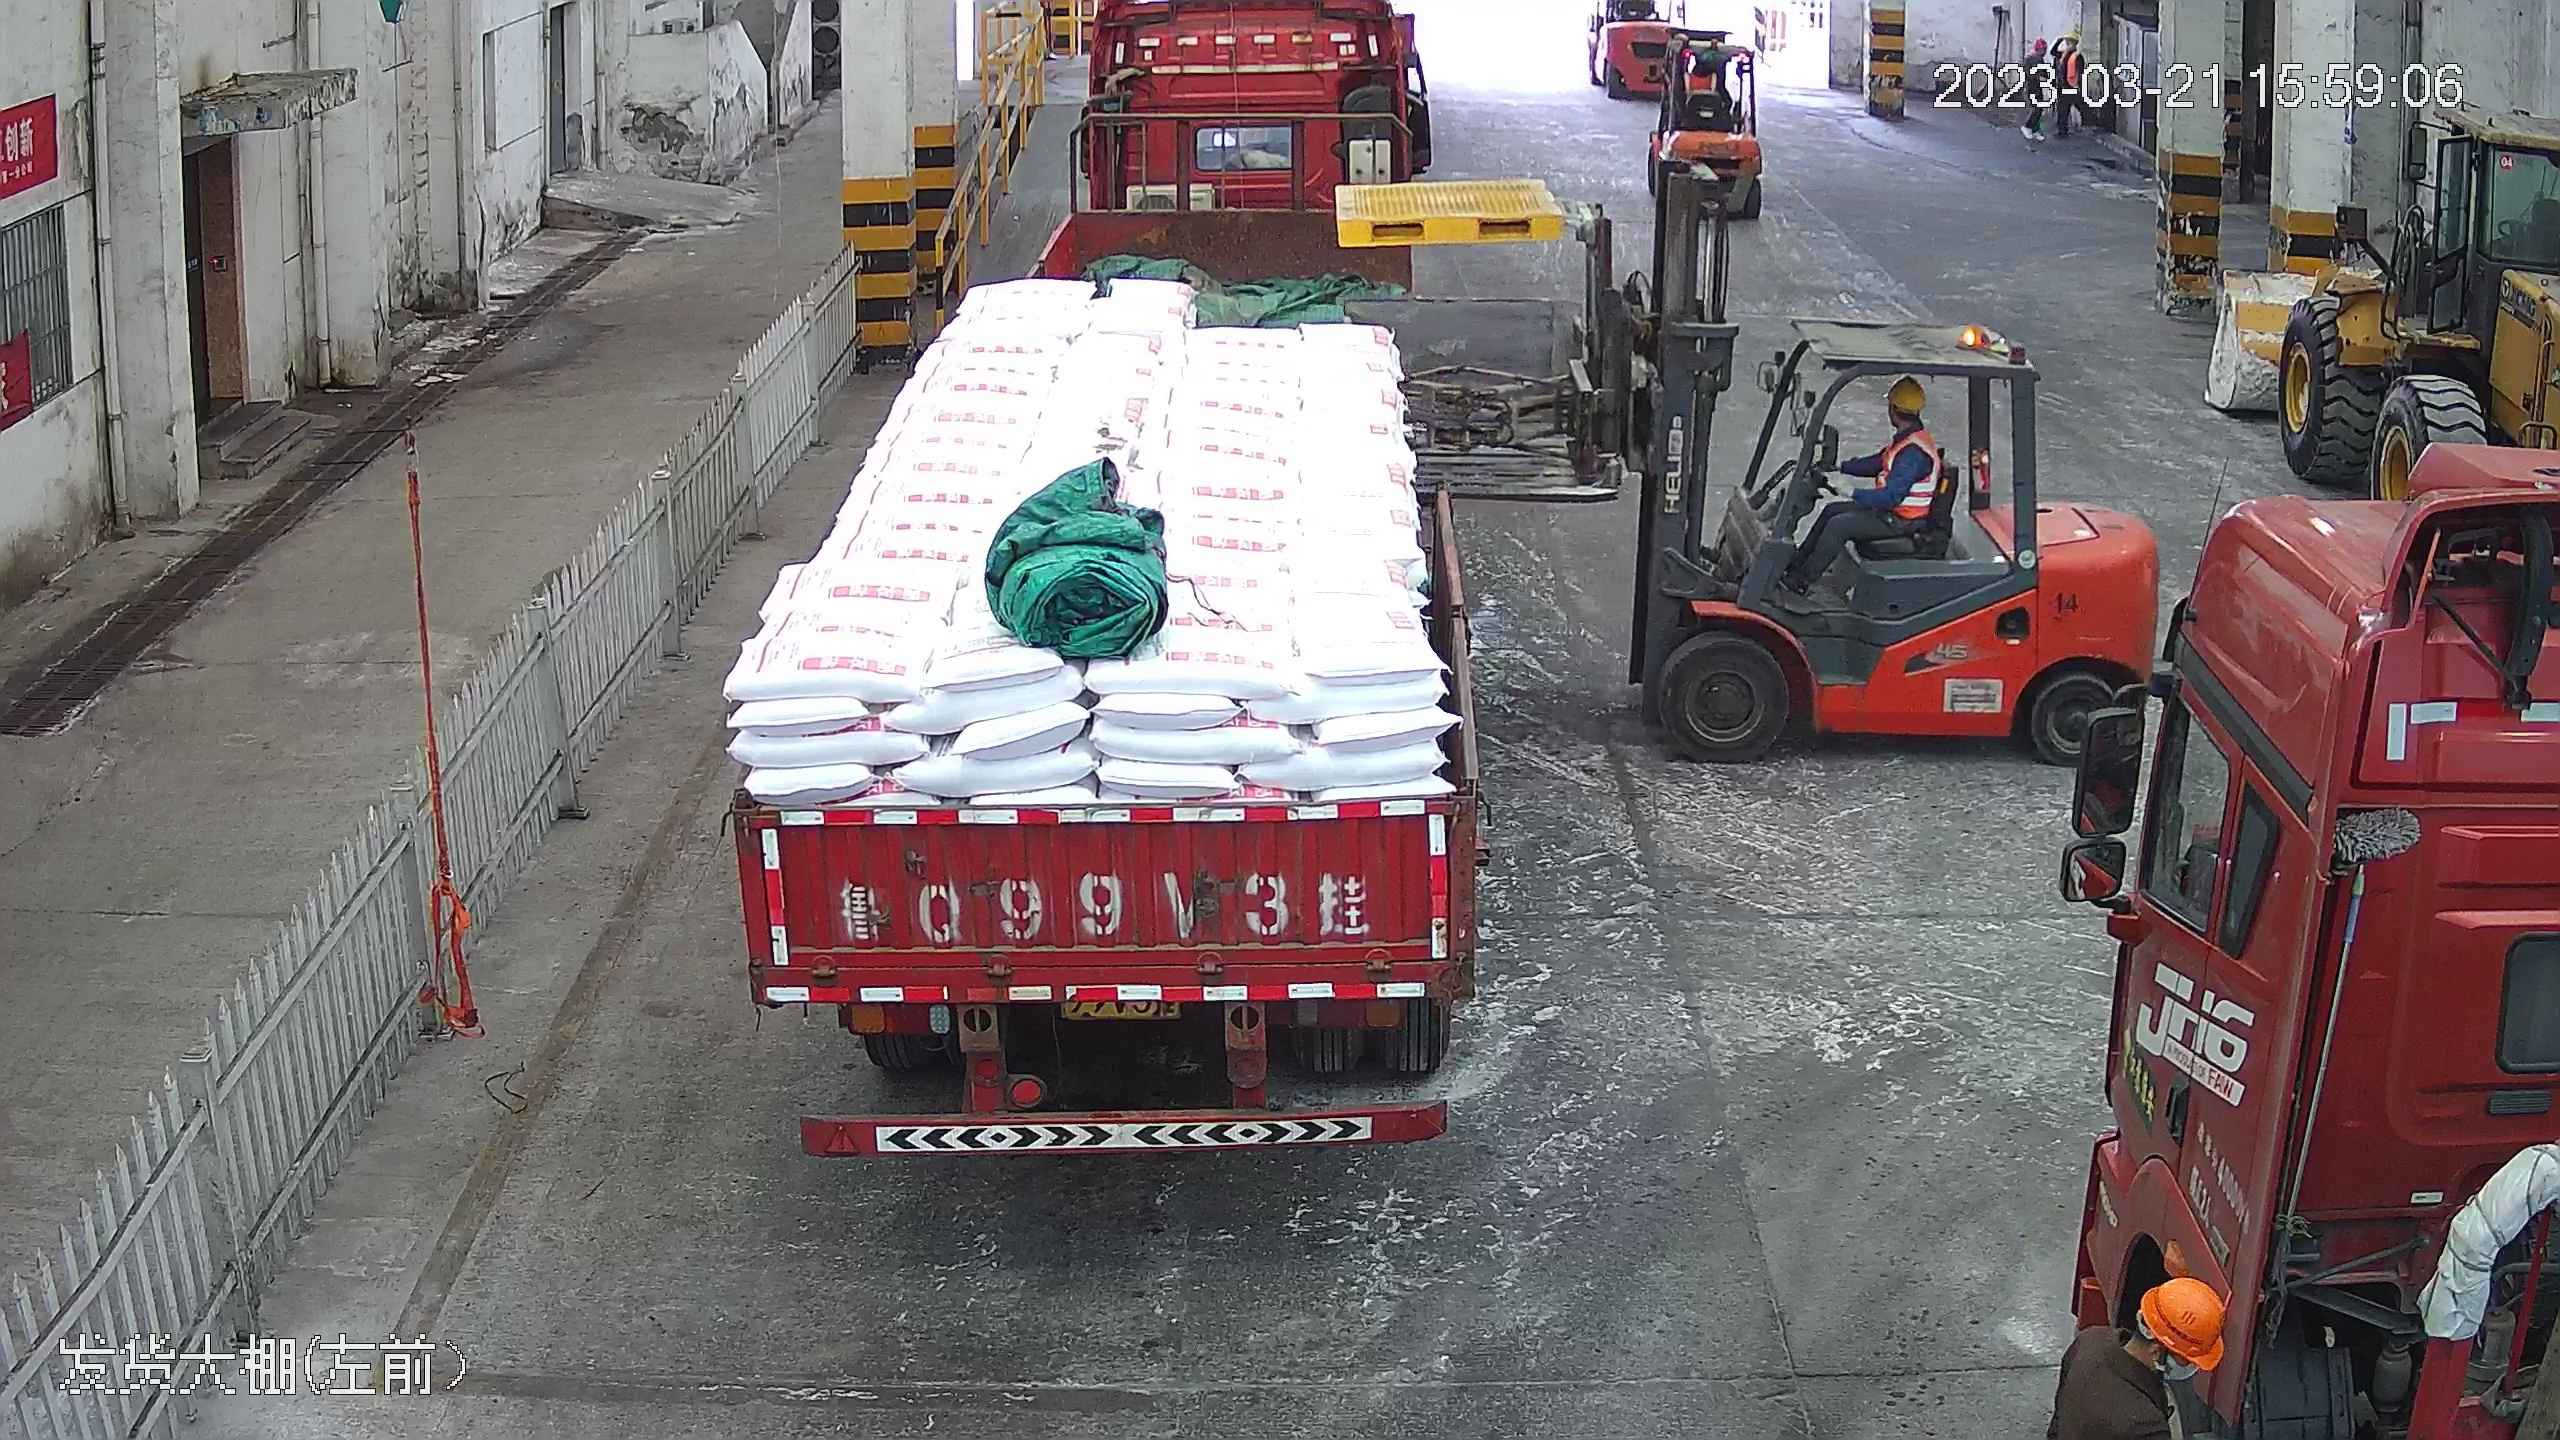head: (1865, 377, 1941, 469)
helmet: (1882, 376, 1927, 411)
people: (1794, 371, 1943, 581)
truck: (709, 4, 1480, 1164), (2050, 439, 2560, 1440)
